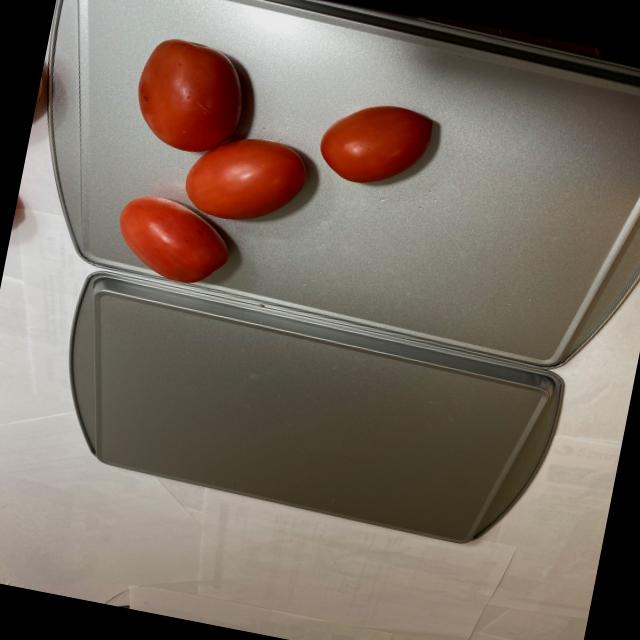tomato: (99, 31, 458, 326)
